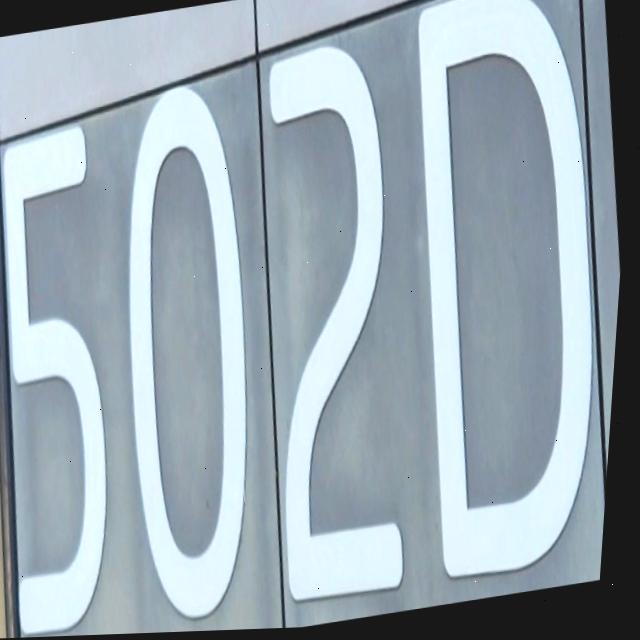character: (369, 0, 640, 592), (218, 28, 449, 613), (76, 71, 299, 634), (0, 114, 156, 640)
